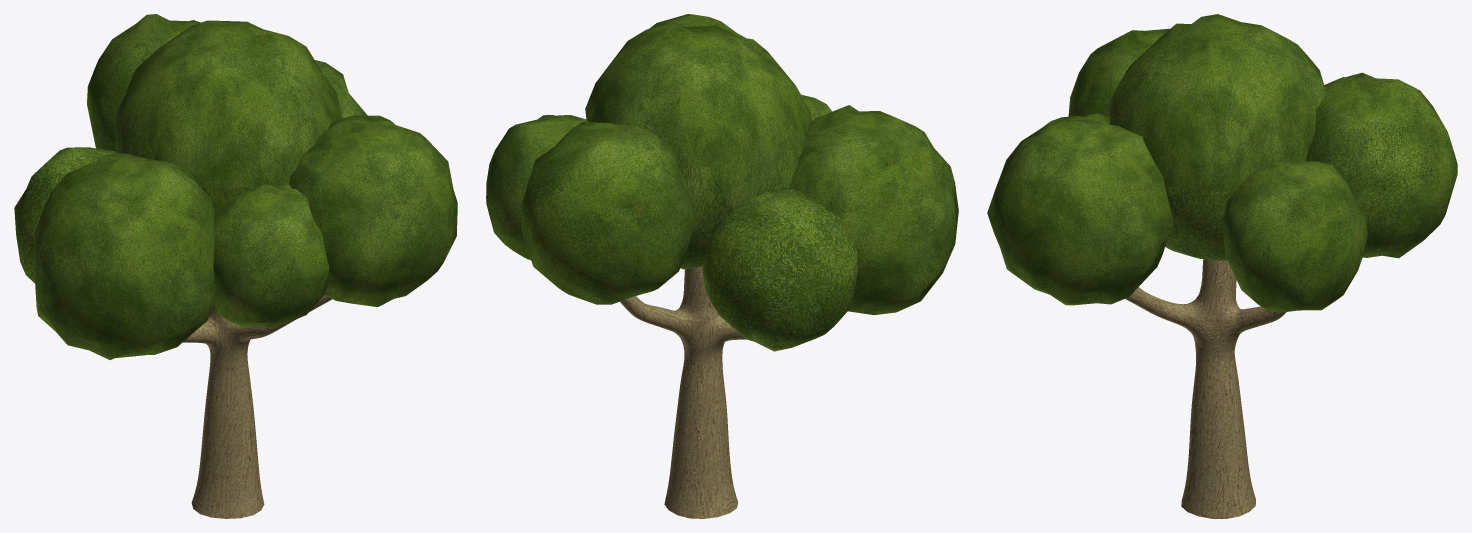
The model's file is Tree.fbx.
3 renders of one model, left to right at view 1: azimuth 30°, elevation 25°; view 2: azimuth 150°, elevation 25°; view 3: azimuth 270°, elevation 25°, orthographic. The views are drawn at different scales.
Visible parts, largest first — view 1: Leaves, Trunk; view 2: Leaves, Trunk; view 3: Leaves, Trunk.
Boxes of the visible parts, bbox=[...] form: Leaves: bbox=[14, 14, 457, 359]; Trunk: bbox=[183, 294, 332, 518]; Leaves: bbox=[486, 14, 958, 351]; Trunk: bbox=[620, 266, 746, 518]; Leaves: bbox=[987, 14, 1457, 312]; Trunk: bbox=[1125, 259, 1286, 518].
Size of the model in its own units: 876 by 1014 by 907.
